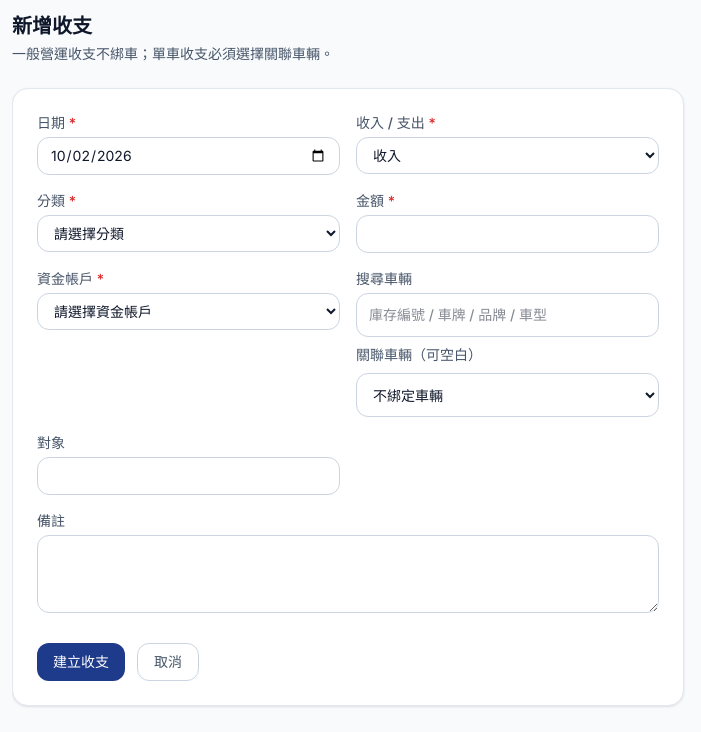
Test: Money entry presentation › keeps field validation before exposing and focusing a general API error
Type "1000" into the number field labelled "金額 *" at (508, 234), box [356,215,659,253]
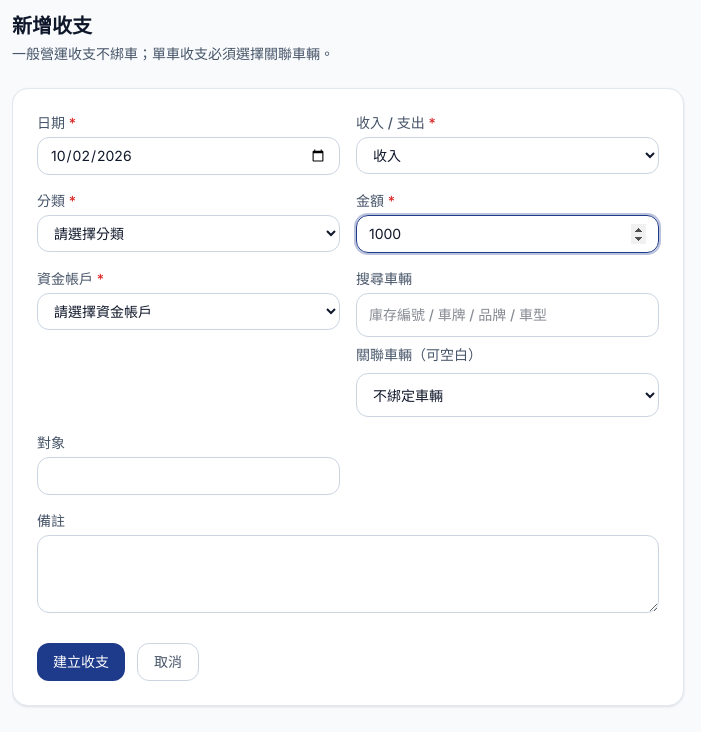
Select "營運現金" in the dropdown labelled "資金帳戶 *" at (188, 312), box [37,293,340,330]
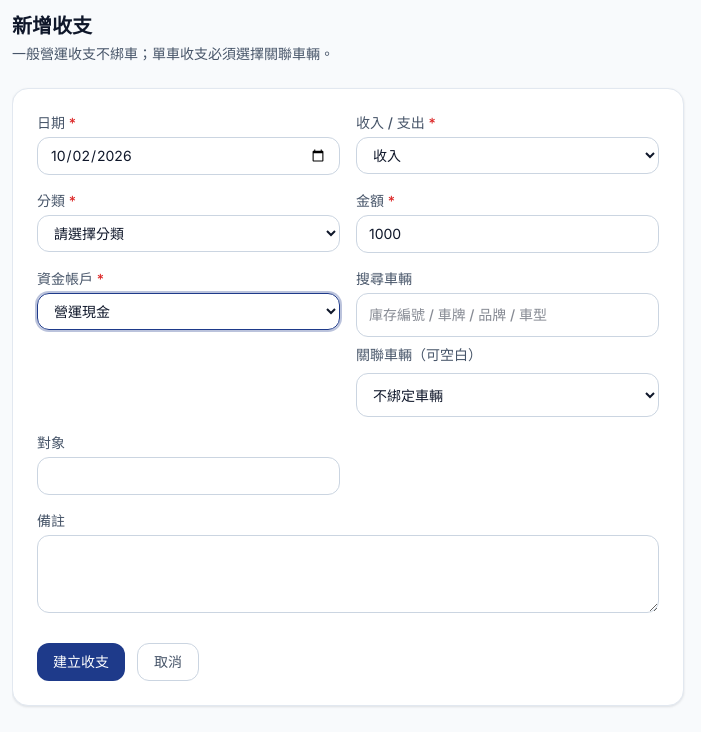
Click the button "建立收支" at (81, 662), box [37,643,125,681]
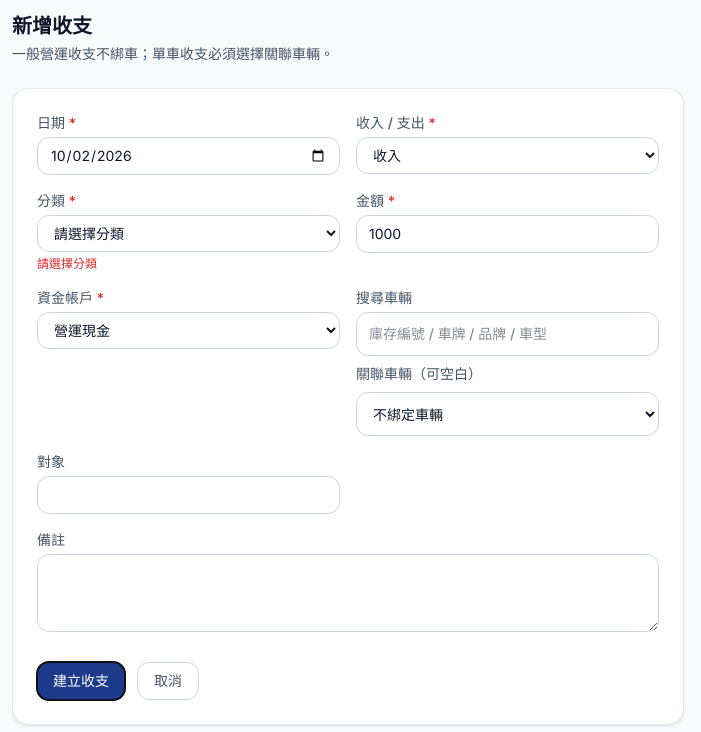
Check: the text with id "money-entry-category-error" reads "請選擇分類", box [37,256,97,271]
Select "一般收入" in the dropdown labelled "分類 *" at (188, 234), box [37,215,340,252]
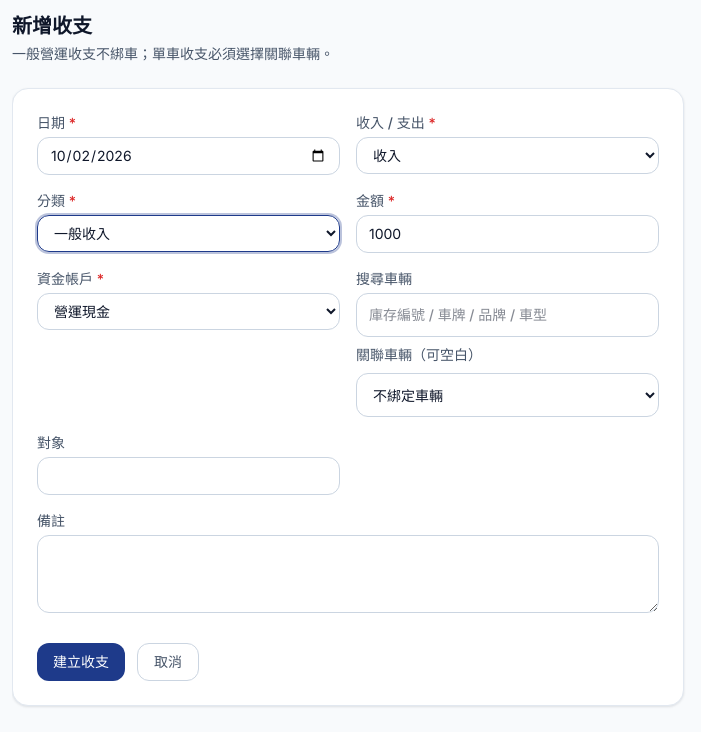
Click the button "建立收支" at (81, 662), box [37,643,125,681]
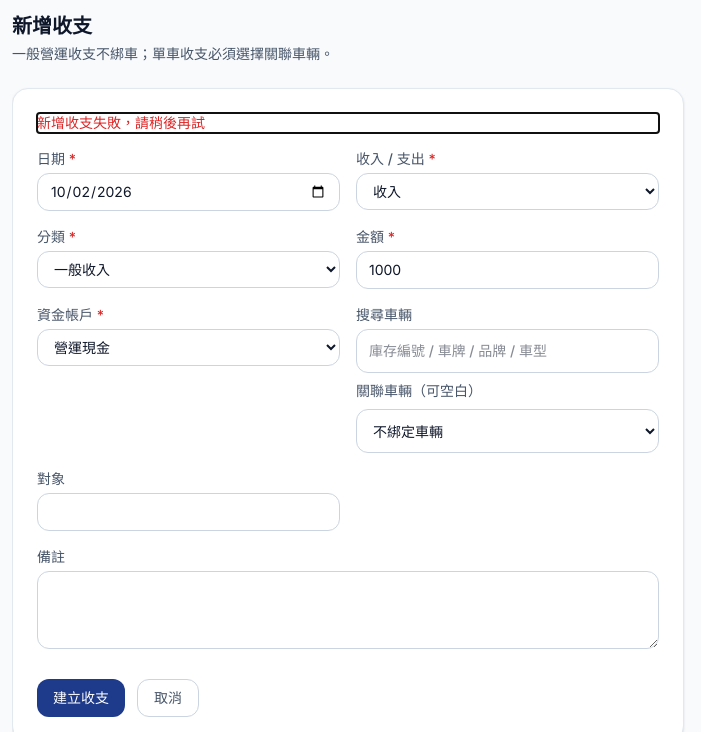
Check: the message reads "新增收支失敗，請稍後再試", box [37,114,205,131]
